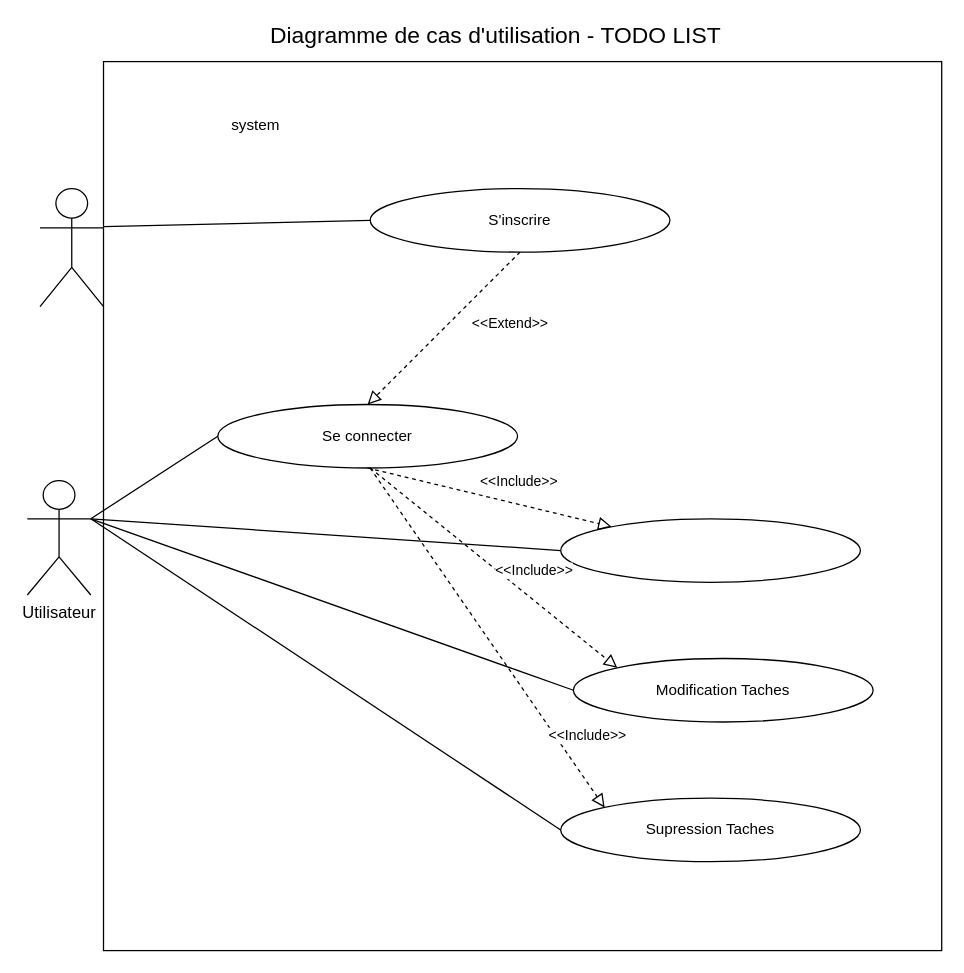
The diagram is 964 pixels wide and 973 high, and some of its shapes have lost their labels. Here are the shapes that lost their labels. From the top down, the centre of each, then its label:
At point 71,247: "Visiteur".
At point 709,550: "Création Tache".
